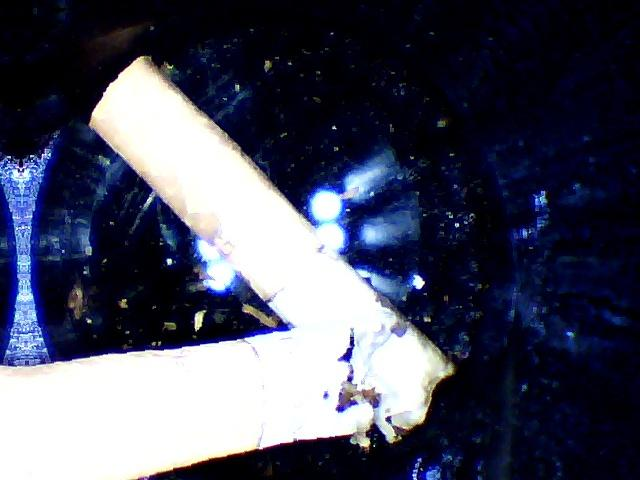megot: (84, 33, 466, 470), (25, 304, 384, 479)
